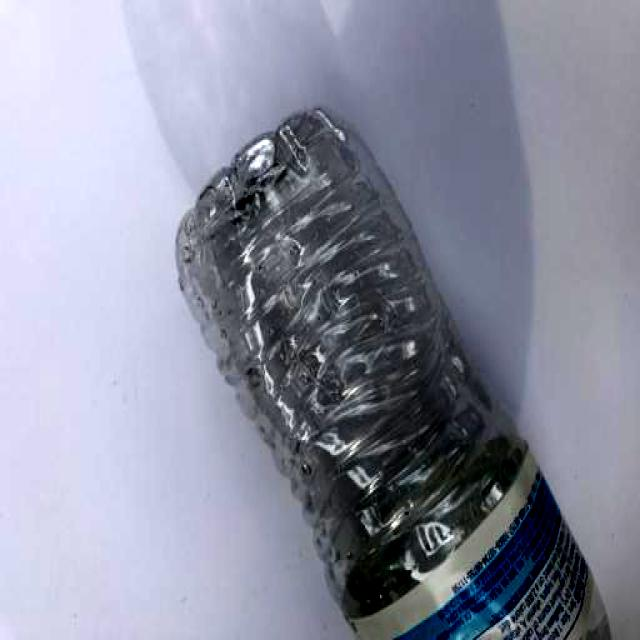Plastic: (161, 91, 623, 640)
